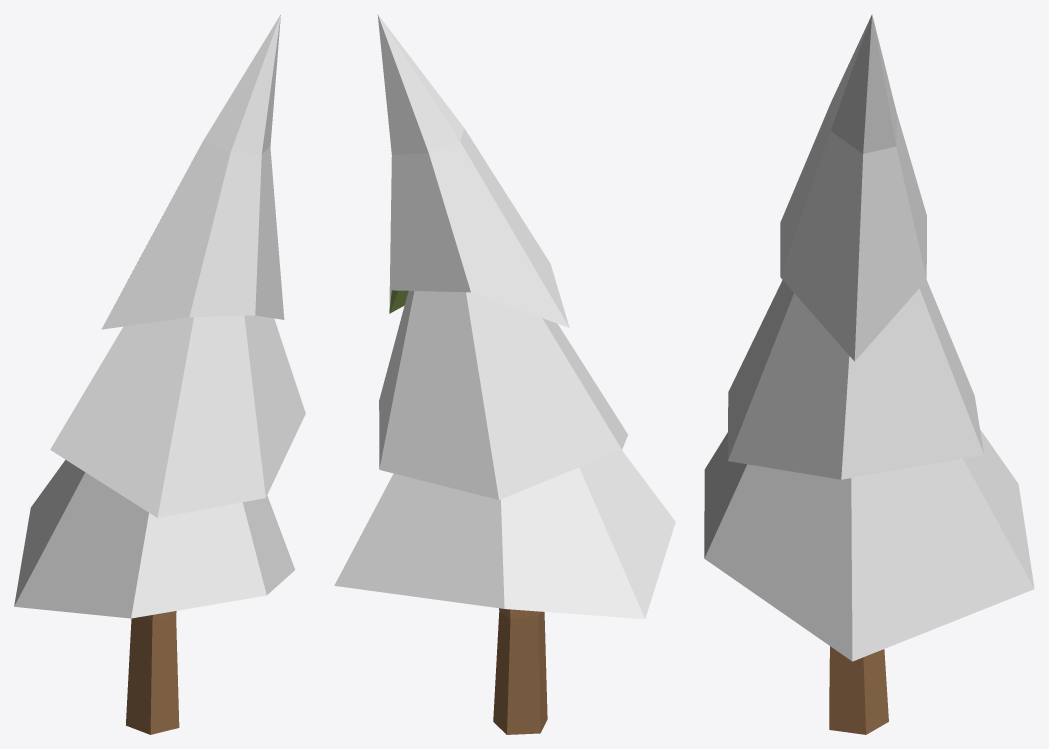
Rendered from Pine_Tree_s_Snow_BT_05.fbx.
3 views of the same model, side by side, from view 1: azimuth 30°, elevation 25°; view 2: azimuth 150°, elevation 25°; view 3: azimuth 270°, elevation 25° (orthographic). The views are drawn at different scales.
Parts seen in each view (by area): view 1: Pine_Tree_s_Snow_BT_05; view 2: Pine_Tree_s_Snow_BT_05; view 3: Pine_Tree_s_Snow_BT_05.
Boxes of the visible parts, x1,y1,x2,y2 form: Pine_Tree_s_Snow_BT_05: (14, 14, 305, 734); Pine_Tree_s_Snow_BT_05: (334, 14, 675, 734); Pine_Tree_s_Snow_BT_05: (704, 14, 1034, 734).
Size of the model in its own units: 129 by 299 by 114.
